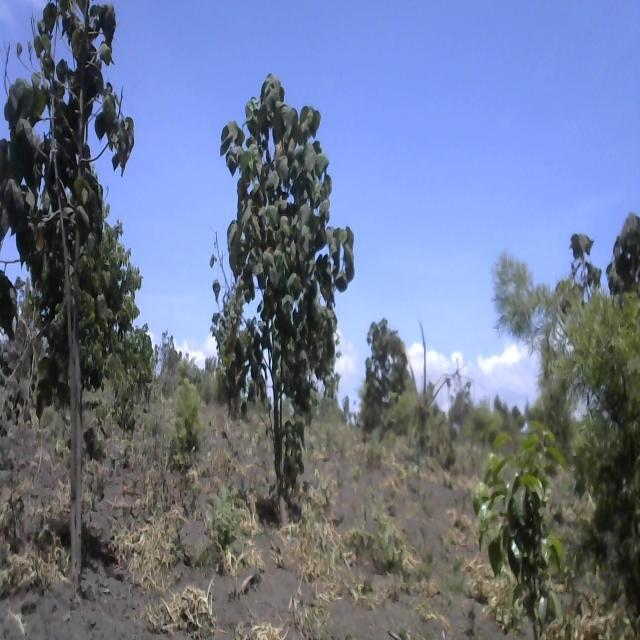Hass Avocado: (470, 434, 571, 640)
Podocarpus falcatus: (547, 247, 640, 560)
other: (1, 0, 151, 622), (207, 77, 368, 510)
